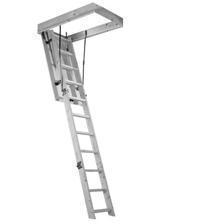Hand: (109, 87, 176, 187), (45, 35, 123, 112)
